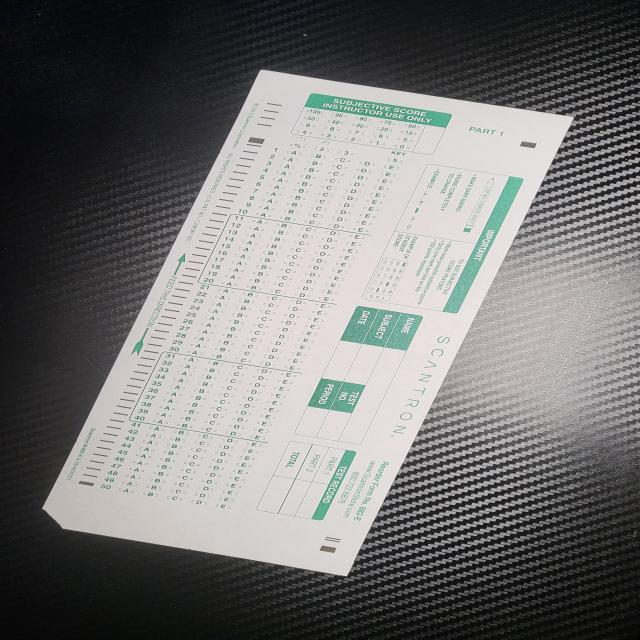scantron: (43, 69, 577, 578)
